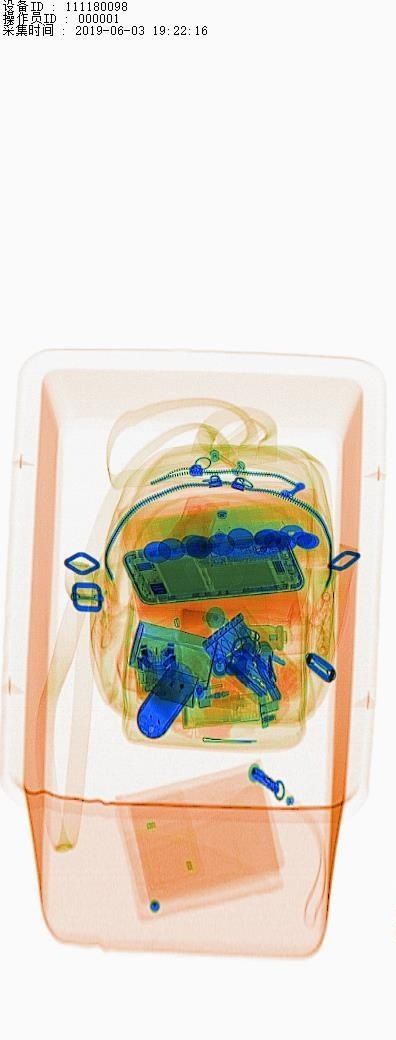NonmetallicFire: (183, 654, 288, 719)
